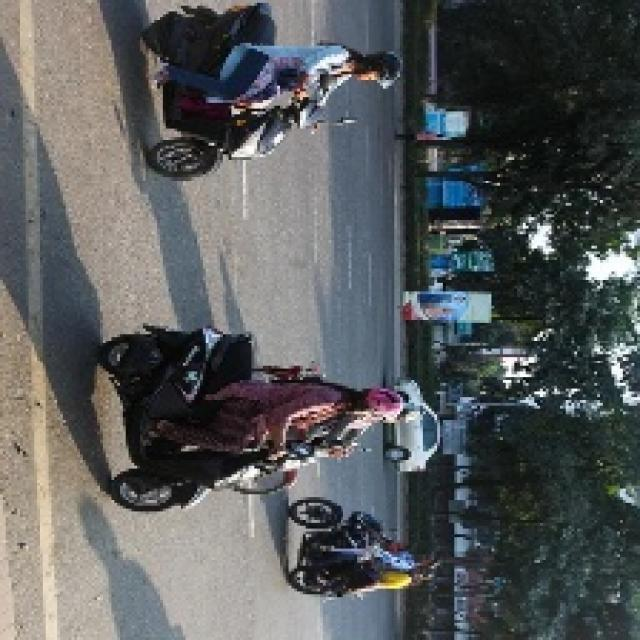bike: (100, 333, 321, 511), (144, 9, 328, 187), (291, 503, 388, 600)
car: (379, 375, 451, 475)
